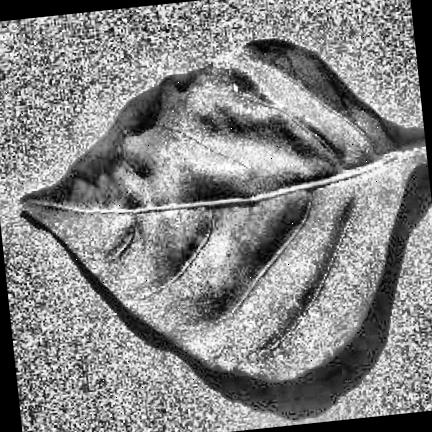leaf: (22, 39, 427, 380)
